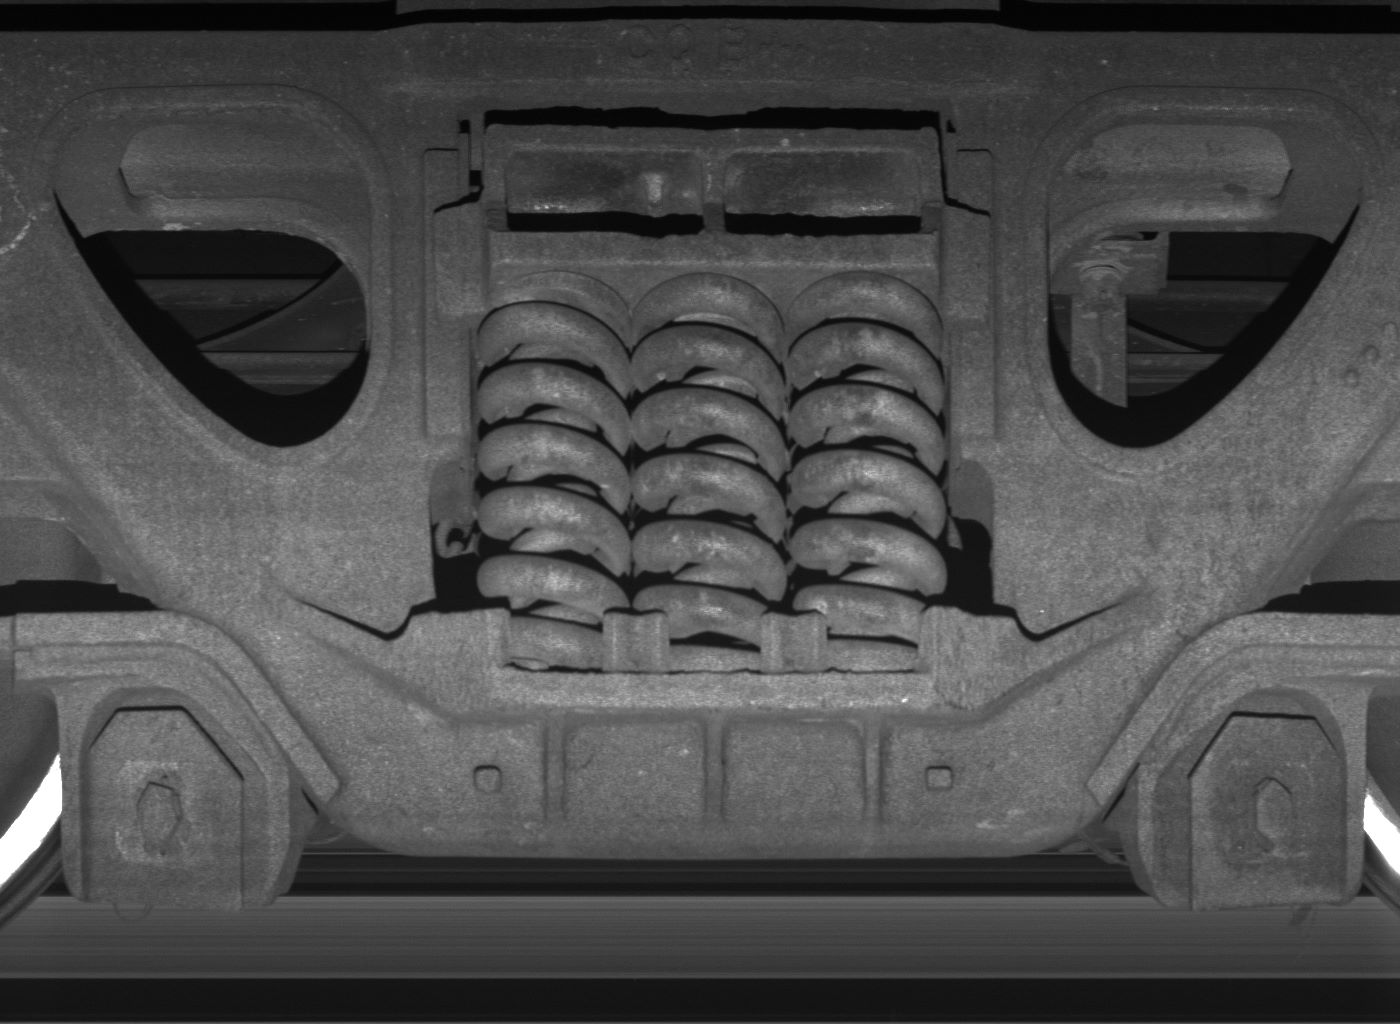normal: (62, 686, 292, 914), (1142, 686, 1368, 909)
